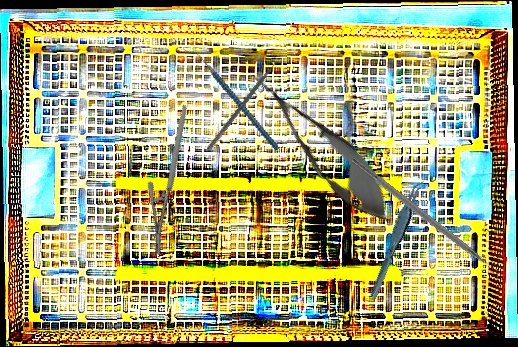Chopper: (184, 31, 280, 168)
Hook Surgical: (349, 157, 506, 282)
Micro Scissor: (235, 56, 409, 238)
Needle Holder: (111, 104, 232, 258)
Spatula Surgical: (206, 57, 283, 155)
Tissue Forceps: (356, 177, 438, 300)
